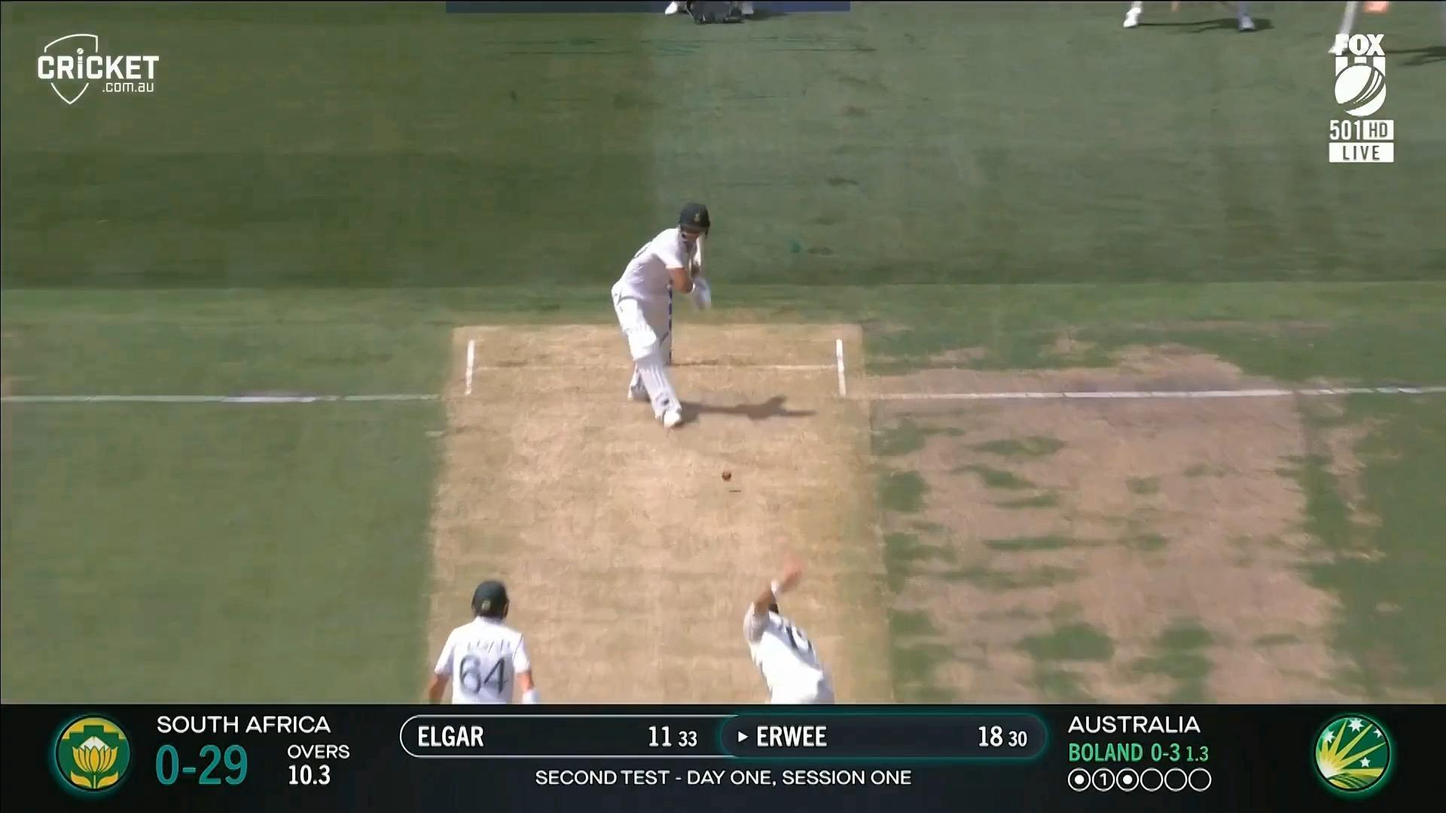BM 1: (610, 204, 711, 429)
BO: (743, 568, 834, 703)
